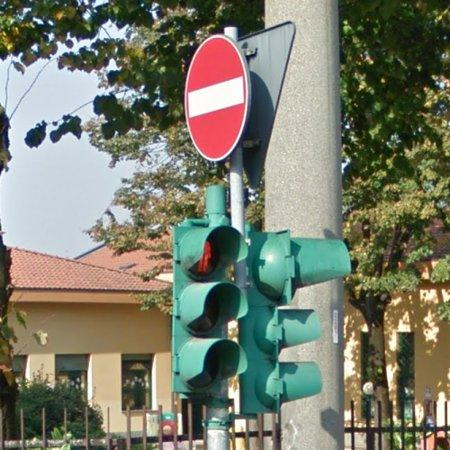traffic lights: (239, 229, 352, 415), (173, 186, 247, 395)
